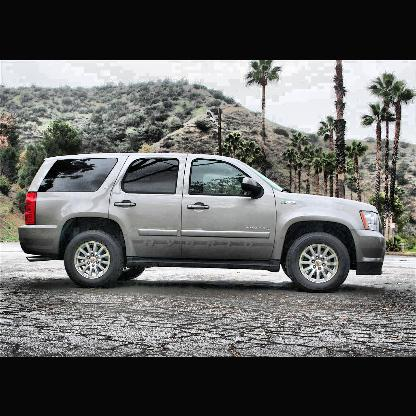Chevrolet Tahoe Hybrid SUV 2012: (18, 151, 389, 294)
